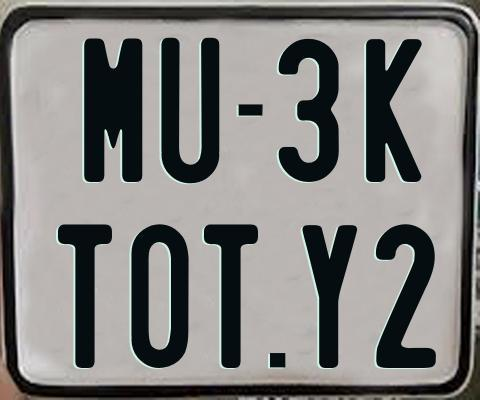0: (128, 223, 192, 369)
2: (376, 222, 437, 369)
3: (277, 38, 342, 182)
K: (364, 39, 423, 184)
M: (81, 35, 140, 184)
T: (203, 224, 258, 373), (58, 224, 114, 368)
U: (158, 36, 217, 181)
Y: (299, 223, 360, 372)
